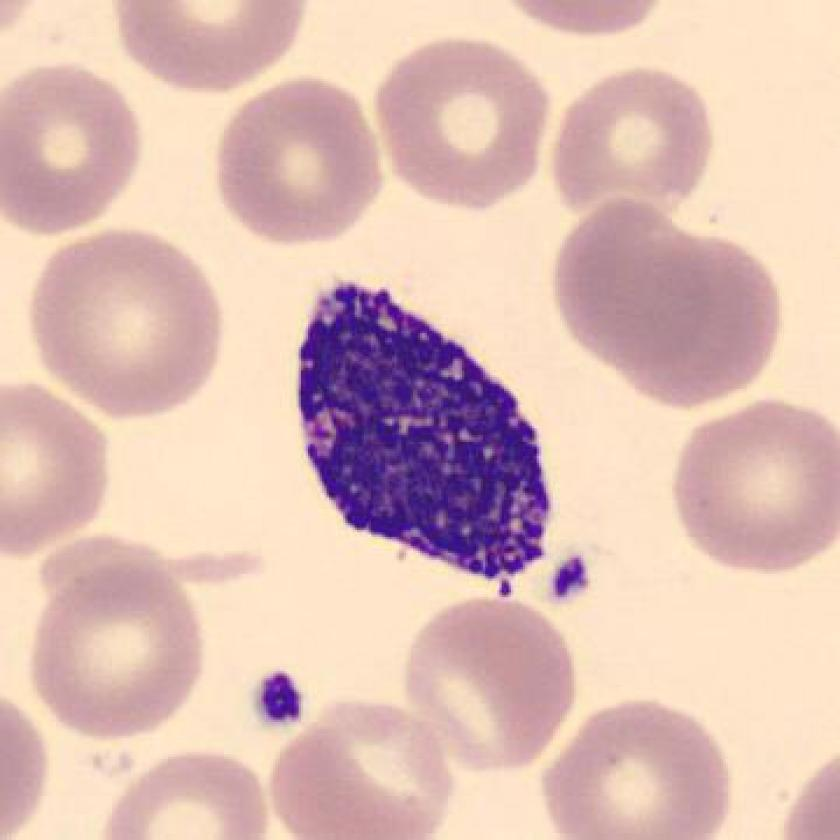basophil: (290, 265, 573, 605)
